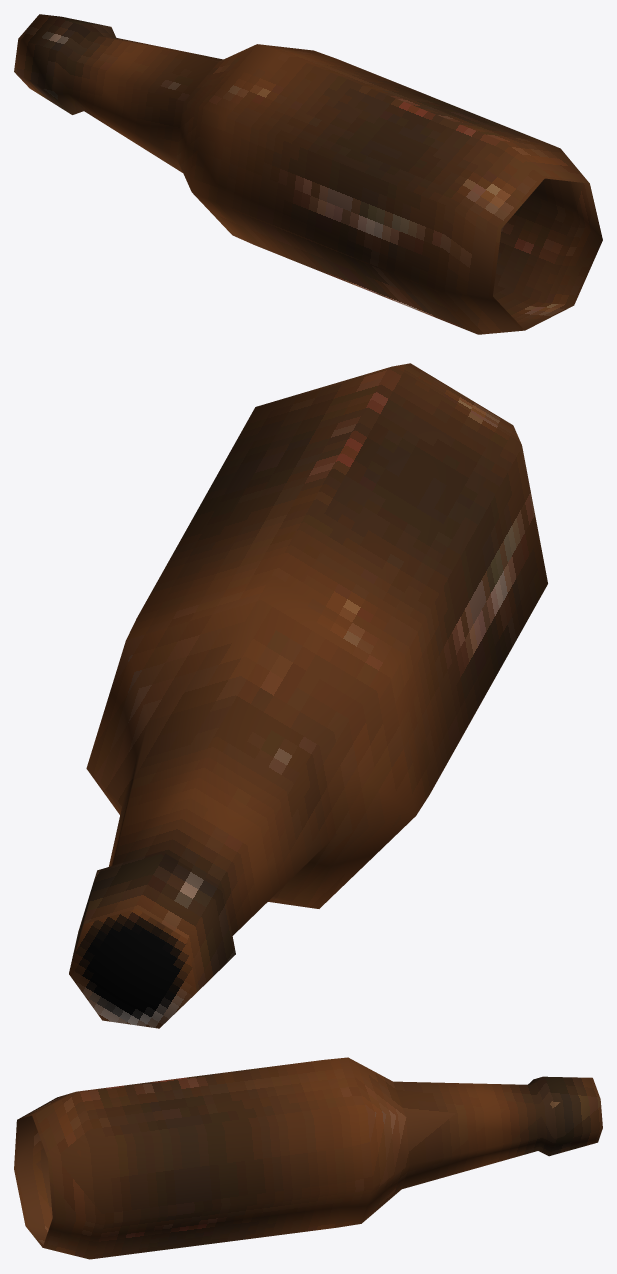
File: Beer02.fbx
The picture shows the model from 3 angles, top to bottom: view 1: azimuth 30°, elevation 25°; view 2: azimuth 150°, elevation 25°; view 3: azimuth 270°, elevation 25°; orthographic projection. The views are drawn at different scales.
Parts seen in each view (by area): view 1: Empty_Mesh; view 2: Empty_Mesh; view 3: Empty_Mesh.
Boxes of the visible parts, bbox=[...] form: Empty_Mesh: bbox=[14, 14, 602, 334]; Empty_Mesh: bbox=[69, 363, 547, 1028]; Empty_Mesh: bbox=[14, 1057, 602, 1259].
Bounding box in the file's own units: 12.07 × 7.62 × 26.59.
